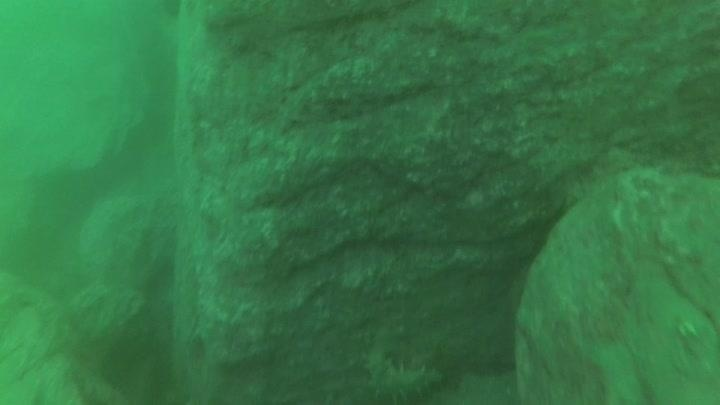holothurian: (359, 345, 448, 403)
